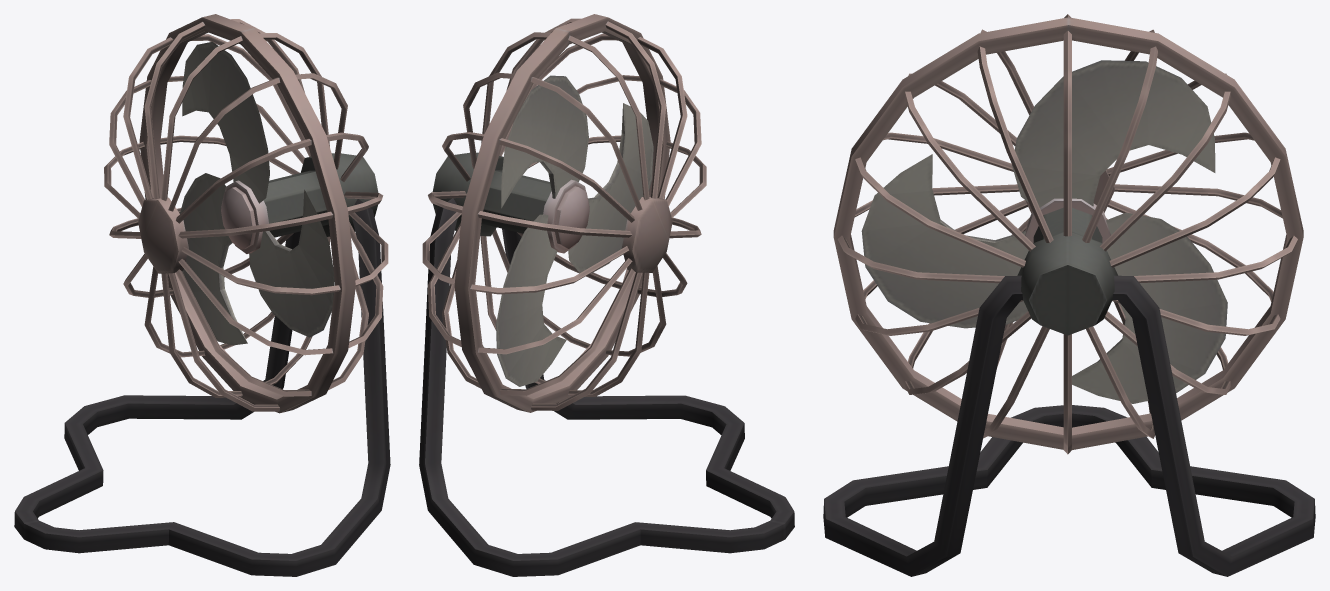
File: ShenMiRenJia_01_fengshan_01.FBX
3 renders of one model, left to right at view 1: azimuth 30°, elevation 25°; view 2: azimuth 150°, elevation 25°; view 3: azimuth 270°, elevation 25°, orthographic. The views are drawn at different scales.
Parts seen in each view (by area): view 1: ShenMiRenJia_01_fengshan_01; view 2: ShenMiRenJia_01_fengshan_01; view 3: ShenMiRenJia_01_fengshan_01.
Boxes of the visible parts, bbox=[...] form: ShenMiRenJia_01_fengshan_01: bbox=[14, 14, 390, 576]; ShenMiRenJia_01_fengshan_01: bbox=[419, 14, 794, 576]; ShenMiRenJia_01_fengshan_01: bbox=[823, 14, 1315, 576].
Bounding box in the file's own units: 141 × 182 × 154.
